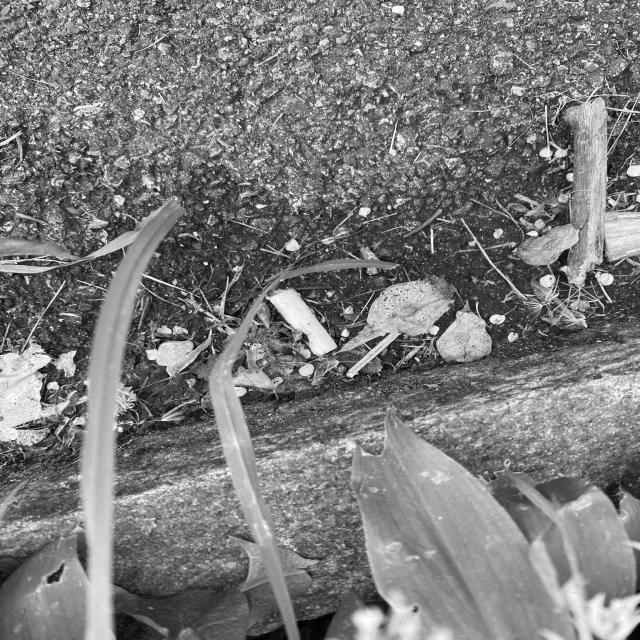other waste: (269, 288, 338, 357)
